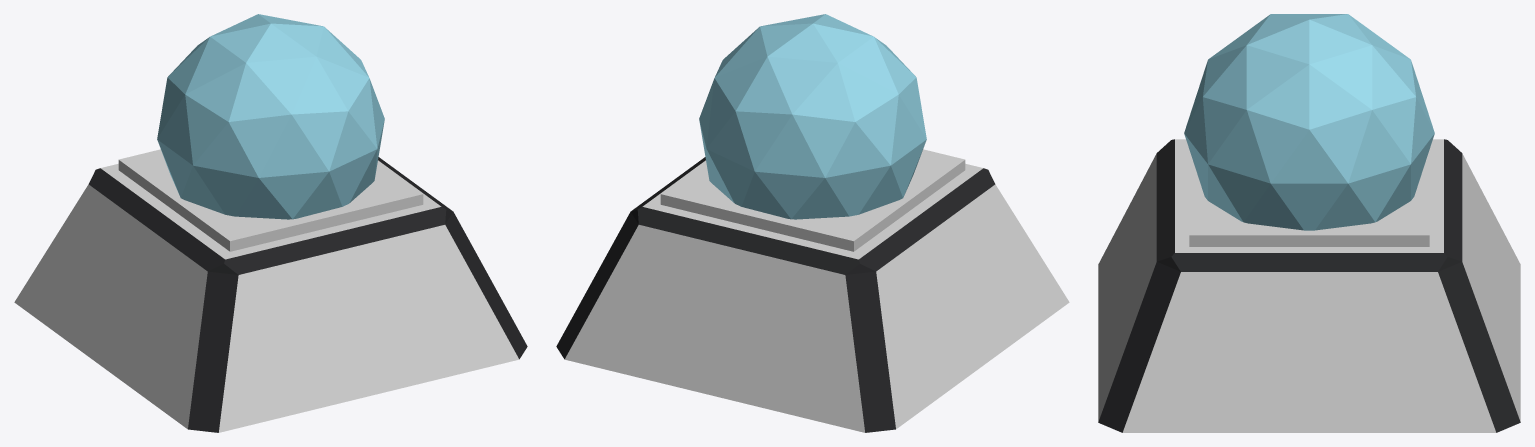
3 views of the same model, side by side, from view 1: azimuth 30°, elevation 25°; view 2: azimuth 150°, elevation 25°; view 3: azimuth 270°, elevation 25° (orthographic). The views are drawn at different scales.
Parts seen in each view (by area): view 1: tower, Icosphere; view 2: tower, Icosphere; view 3: tower, Icosphere.
Boxes of the visible parts, x1,y1,x2,y2 form: tower: (14, 149, 527, 432); Icosphere: (157, 14, 384, 219); tower: (556, 149, 1069, 432); Icosphere: (699, 14, 926, 219); tower: (1098, 139, 1520, 432); Icosphere: (1184, 14, 1434, 230).
Size of the model in its own units: 2 by 2 by 1.69.
